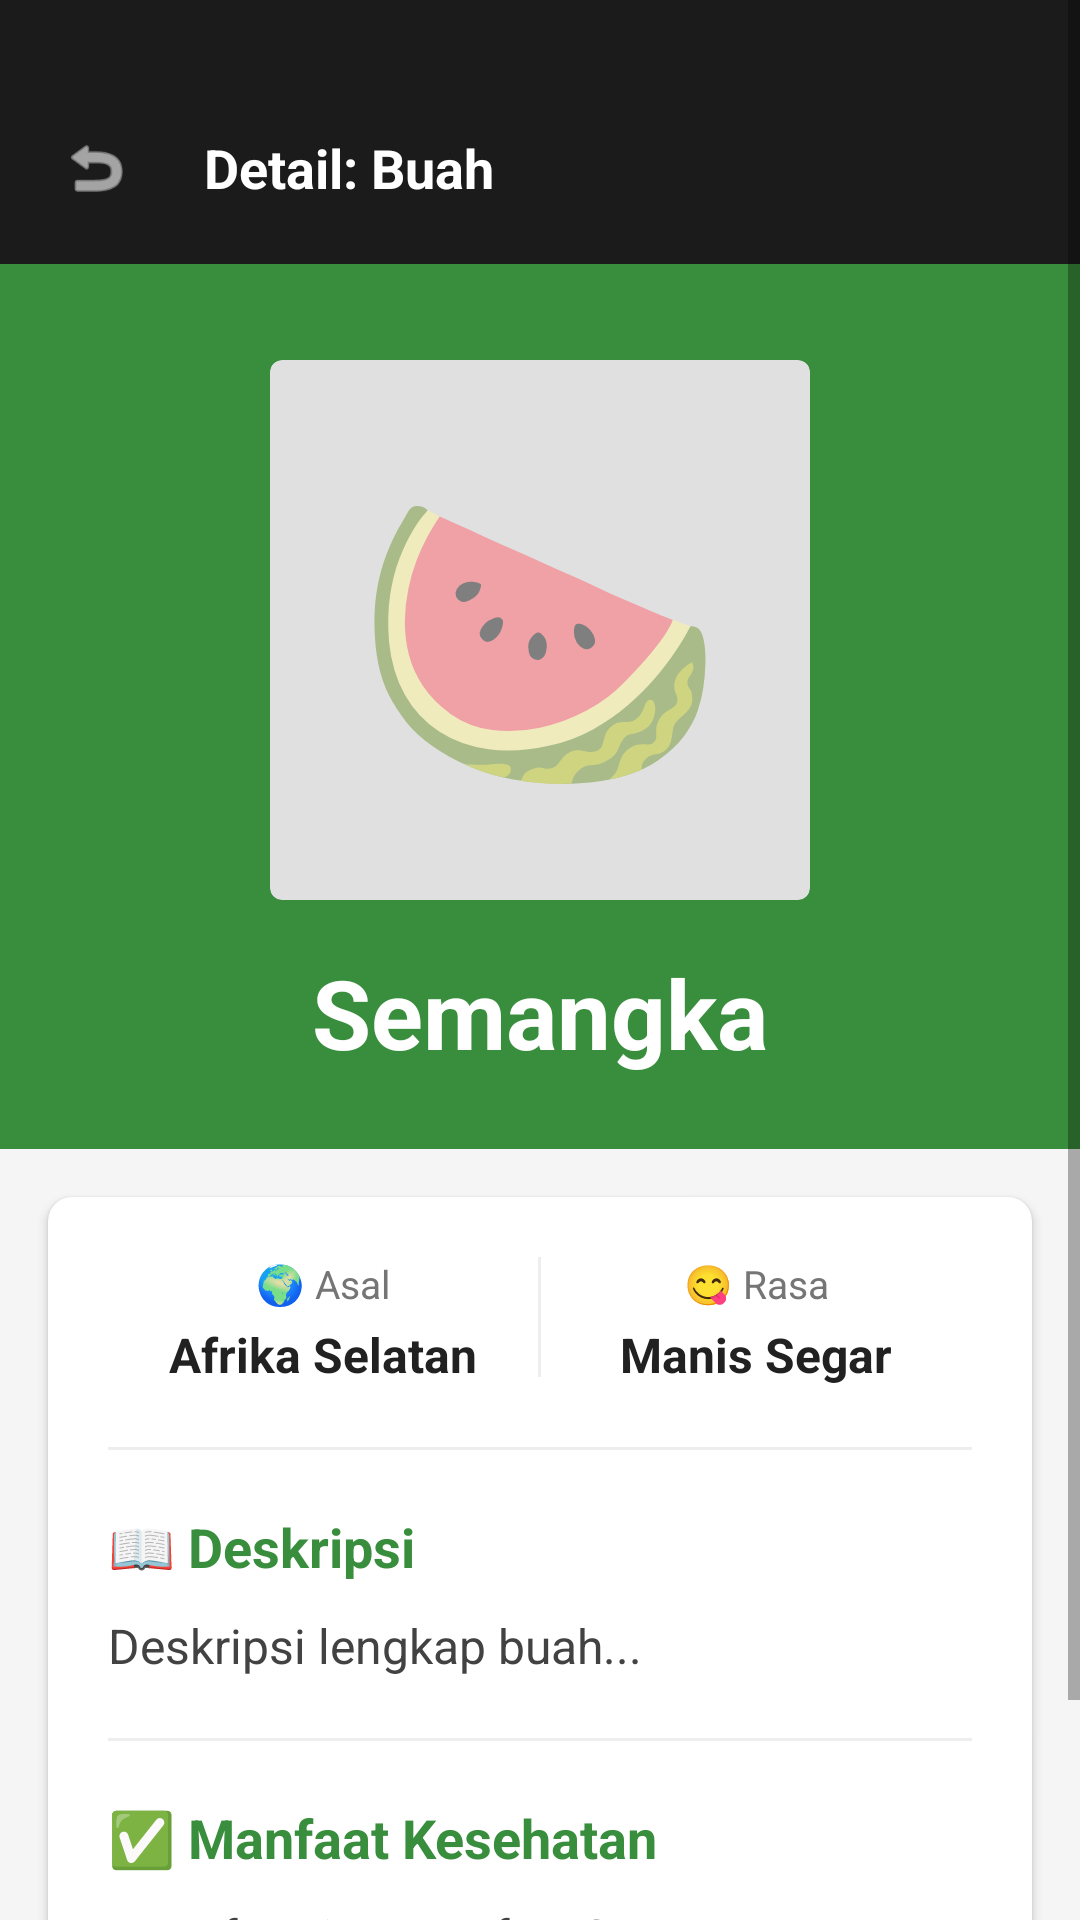

Icons on this 1080 x 1920 Android screen, each with the point to tap as [x,y]:
revert: [97,168]
